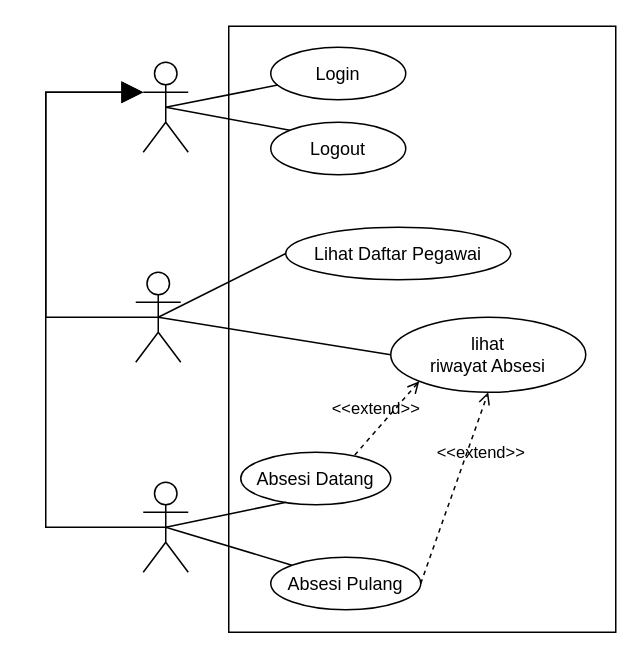
Image size: 642x659. Some labels were removed from this diagram. Here are the shapes that lost their labels. From the top down, the centre of each, then its label:
the point at 165,106: Pengguna
the point at 157,316: Admin Absensi
the point at 165,526: Pagawai
